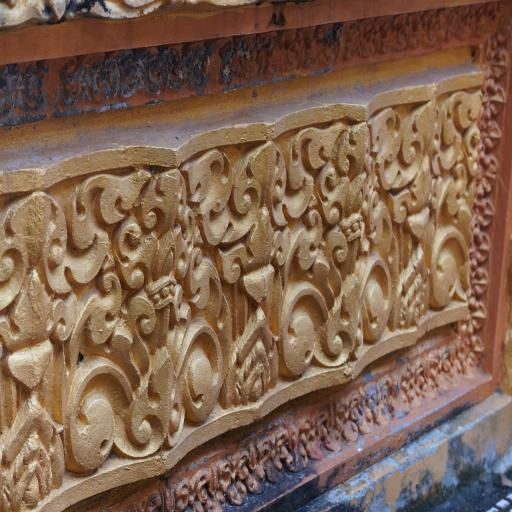la: (65, 174, 179, 466), (175, 150, 281, 420), (278, 122, 367, 375), (0, 195, 69, 508), (369, 103, 433, 327), (428, 86, 482, 308)
